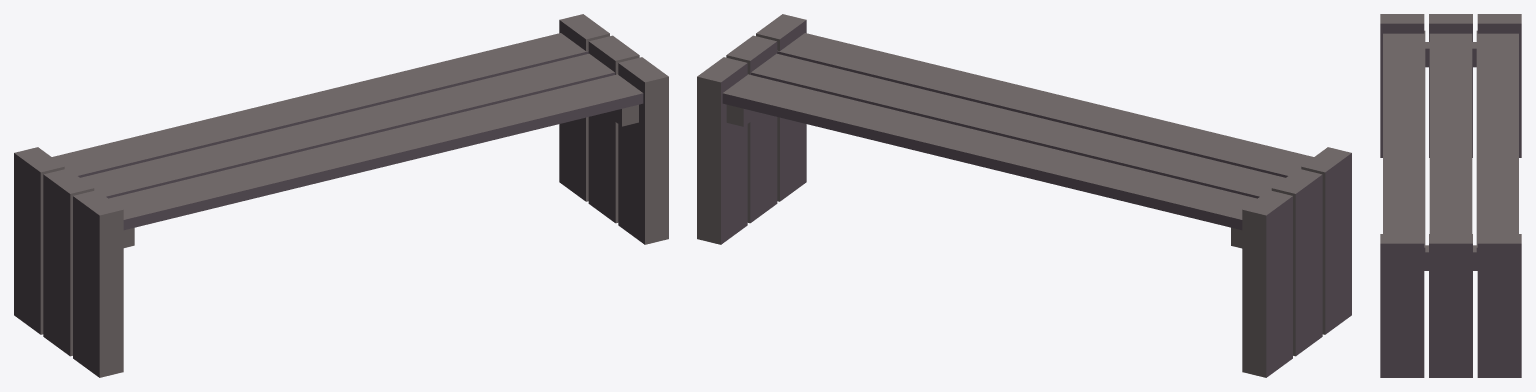
Rendered from Bench.fbx.
3 views of the same model, side by side, from view 1: azimuth 30°, elevation 25°; view 2: azimuth 150°, elevation 25°; view 3: azimuth 270°, elevation 25° (orthographic). The views are drawn at different scales.
Parts seen in each view (by area): view 1: Bench; view 2: Bench; view 3: Bench.
Boxes of the visible parts, x1,y1,x2,y2 form: Bench: (14, 14, 668, 377); Bench: (697, 14, 1351, 377); Bench: (1380, 14, 1521, 377).
Size of the model in its own units: 355 by 96.67 by 92.32.
